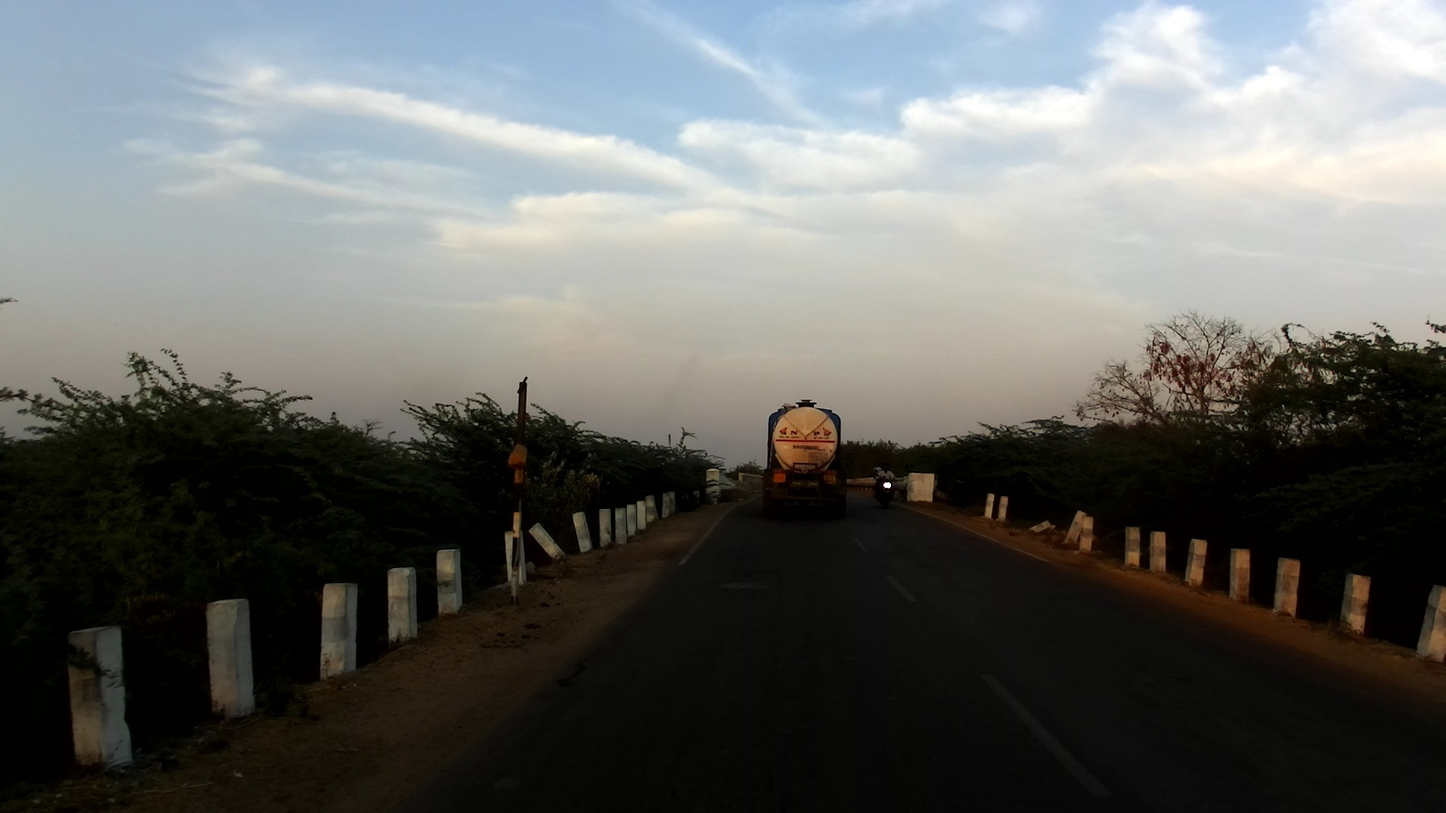motorcycle: (872, 474, 899, 511)
rider: (874, 463, 897, 502)
truck: (761, 400, 850, 522)
